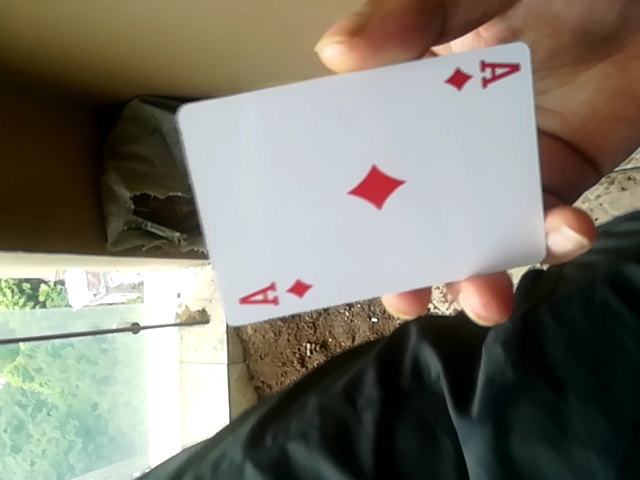fk a: (171, 40, 541, 328)
